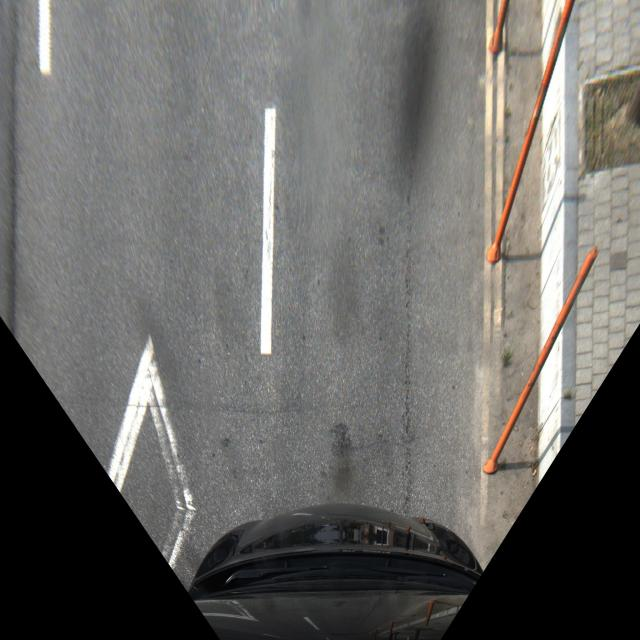diamond: (18, 92, 292, 516)
